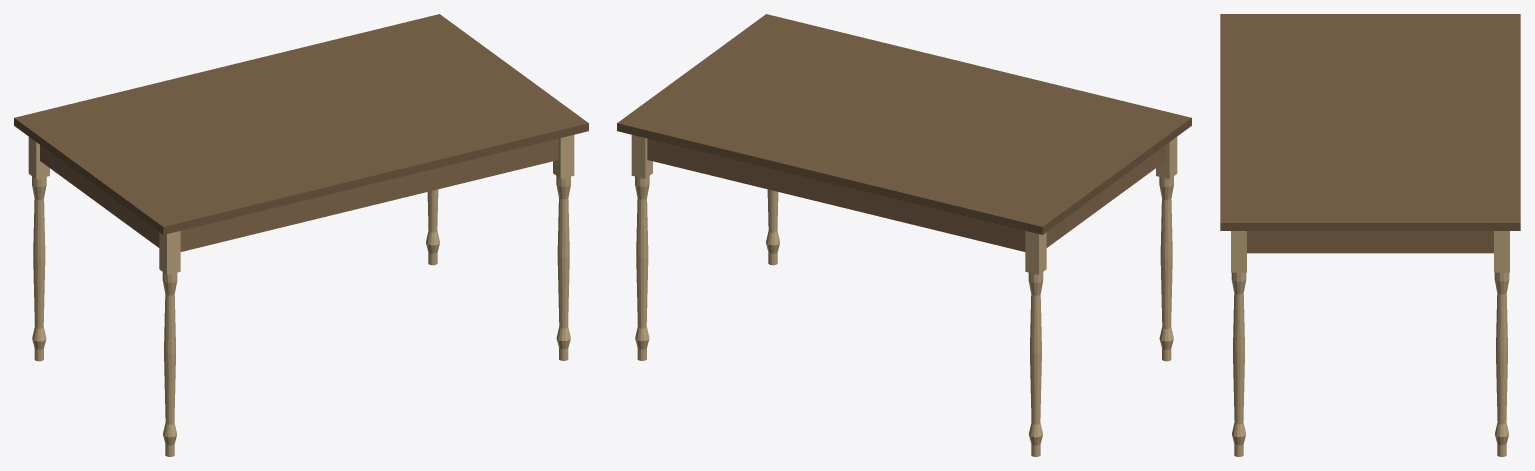
File: BIB-DTB-4-seat.glb
3 renders of one model, left to right at view 1: azimuth 30°, elevation 25°; view 2: azimuth 150°, elevation 25°; view 3: azimuth 270°, elevation 25°, orthographic.
Visible parts, largest first — view 1: top:pbr, apron-f:pbr, leg-fl:pbr, leg-fr:pbr, leg-bl:pbr, apron-l:pbr, leg-br:pbr; view 2: top:pbr, apron-b:pbr, leg-bl:pbr, leg-br:pbr, leg-fl:pbr, apron-l:pbr, leg-fr:pbr; view 3: top:pbr, apron-r:pbr, leg-fr:pbr, leg-br:pbr.
Part boxes in pixels (<box>): top:pbr: <box>14,14,588,234</box>; apron-f:pbr: <box>180,138,558,251</box>; leg-fl:pbr: <box>159,231,180,456</box>; leg-fr:pbr: <box>553,135,574,360</box>; leg-bl:pbr: <box>28,137,49,361</box>; apron-l:pbr: <box>40,145,159,247</box>; leg-br:pbr: <box>426,189,439,265</box>; top:pbr: <box>617,14,1191,234</box>; apron-b:pbr: <box>647,138,1025,251</box>; leg-bl:pbr: <box>1025,231,1046,456</box>; leg-br:pbr: <box>631,135,652,360</box>; leg-fl:pbr: <box>1156,137,1177,361</box>; apron-l:pbr: <box>1046,145,1165,247</box>; leg-fr:pbr: <box>766,189,779,265</box>; top:pbr: <box>1220,14,1520,230</box>; apron-r:pbr: <box>1247,231,1493,253</box>; leg-fr:pbr: <box>1231,231,1246,456</box>; leg-br:pbr: <box>1494,231,1509,456</box>.
Size of the model in its own units: 1.4 by 0.75 by 0.85.
